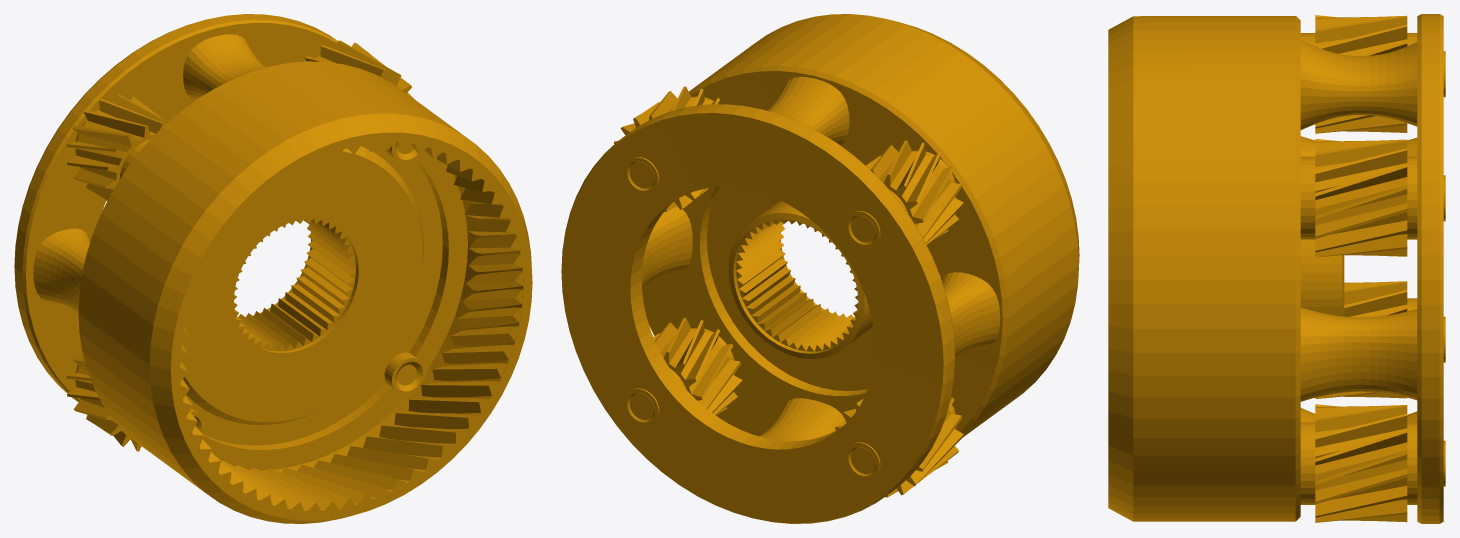
3 renders of one model, left to right at view 1: azimuth 30°, elevation 25°; view 2: azimuth 150°, elevation 25°; view 3: azimuth 270°, elevation 25°, orthographic. The views are drawn at different scales.
Visible parts, largest first — view 1: 673; view 2: 673; view 3: 673.
Boxes of the visible parts, x1,y1,x2,y2 form: 673: (14, 14, 532, 523); 673: (561, 14, 1079, 523); 673: (1108, 14, 1445, 523).
Size of the model in its own units: 1109 by 1109 by 733.
